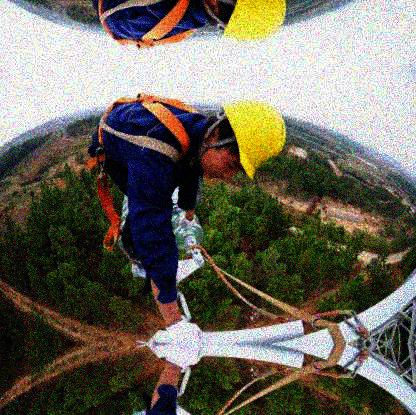helmet: (198, 96, 287, 181), (201, 1, 288, 45)
